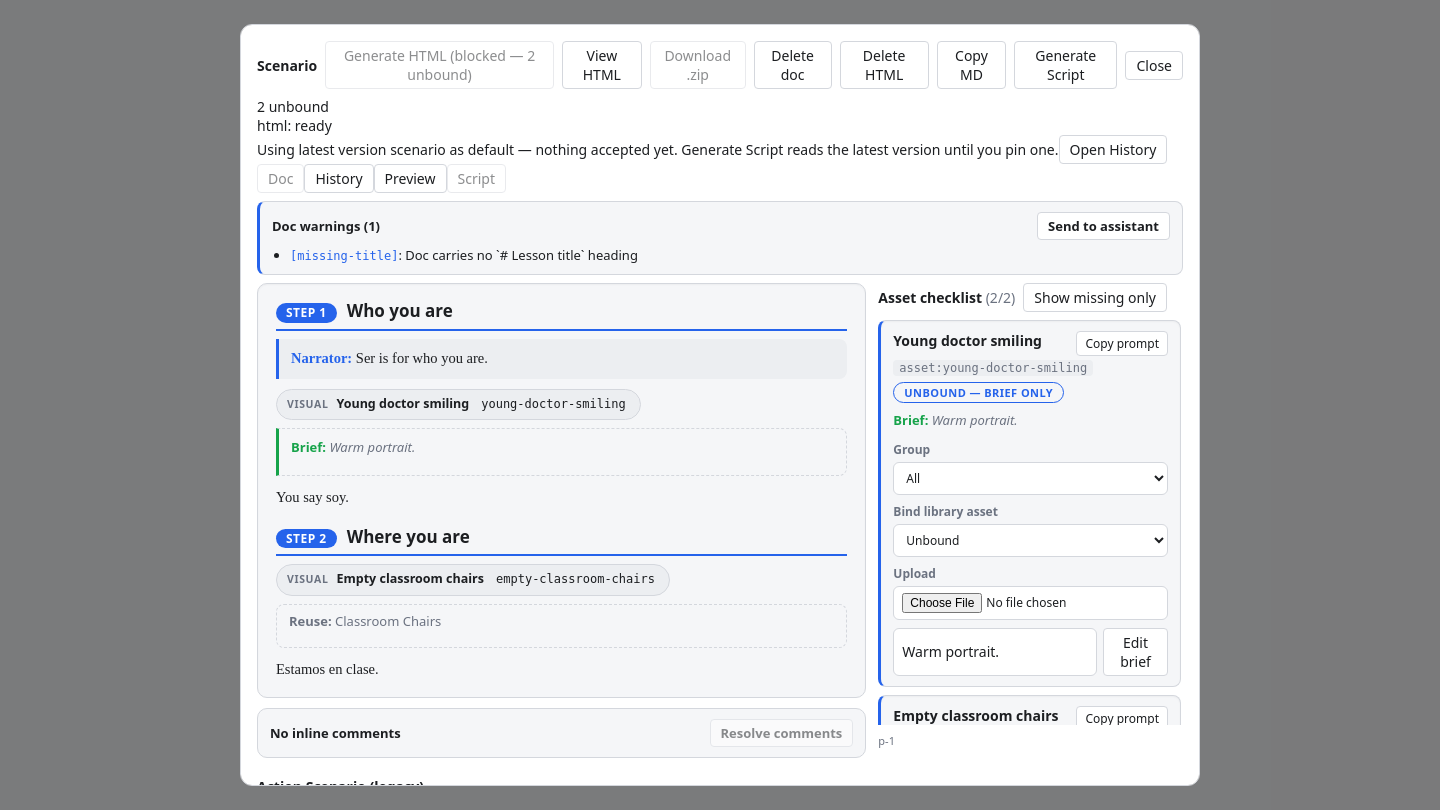
AiScenarioModal doc-first blocking checklist (issue #463) › Delete HTML arms on first click and clears only the stored render
Expected: the element with test id "ai-scenario-modal-doc" is shown, [257,283,866,698]
Expected: the text with test id "ai-scenario-html-state" shows "ready", [295,116,332,135]
Click the button with test id "ai-scenario-delete-html": (884, 65) [840,41,929,89]
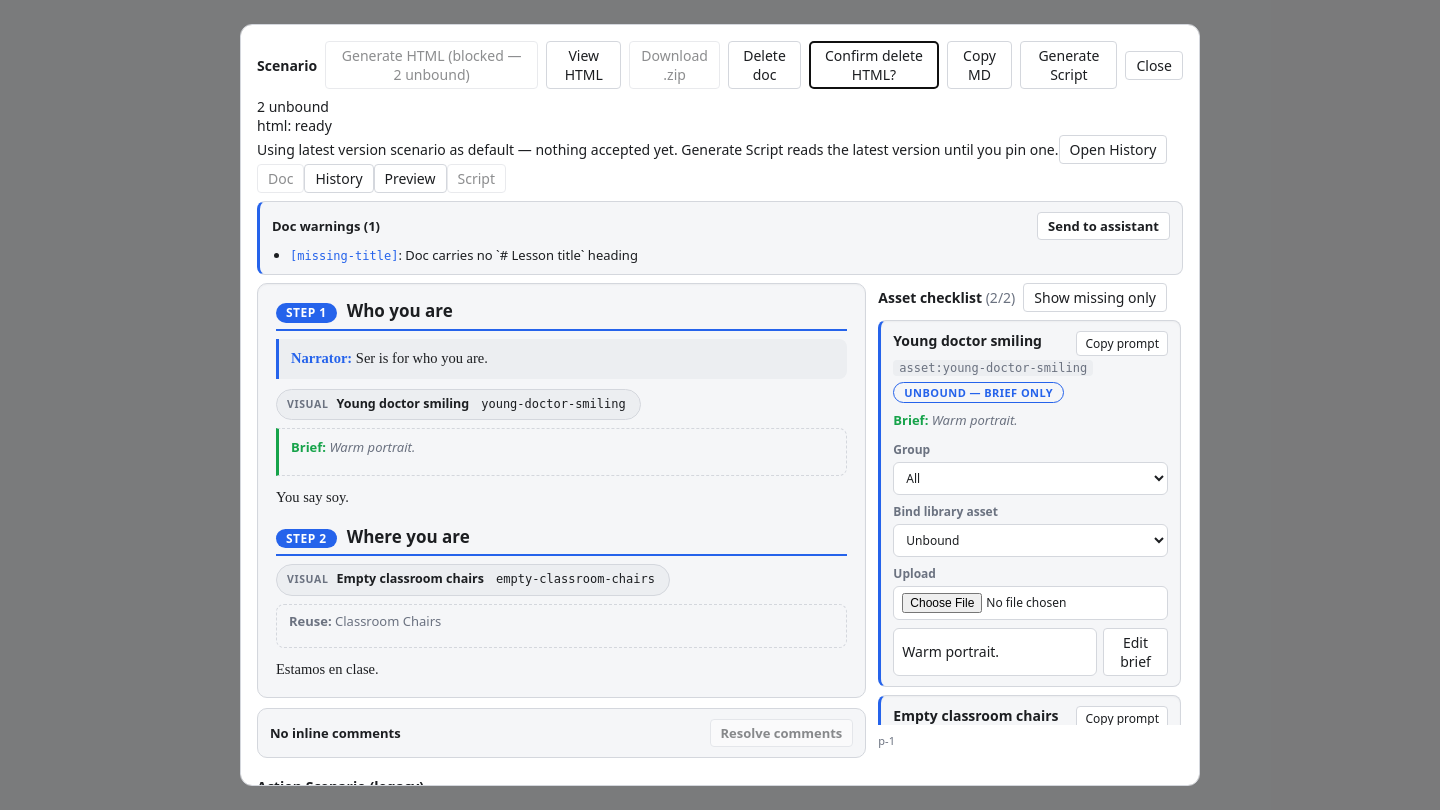
Result: the button with test id "ai-scenario-delete-html" shows "Confirm"
Click the button with test id "ai-scenario-delete-html": (874, 65) [809,41,939,89]
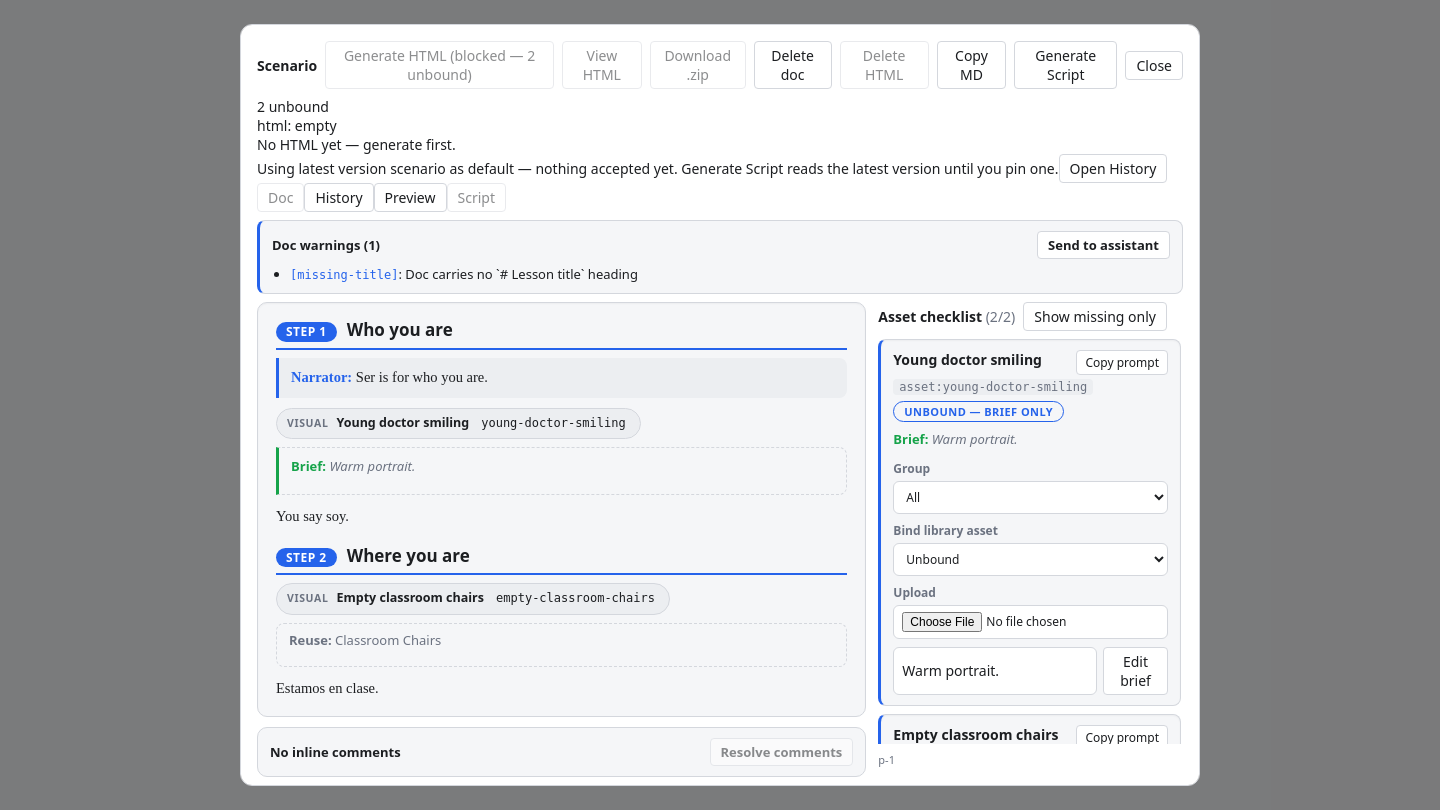
Expected: the element with test id "ai-scenario-modal-doc" is shown, [257,302,866,717]
Result: the text with test id "ai-scenario-html-state" shows "empty" at [295,116,337,135]
Result: the button with test id "ai-scenario-delete-html" is disabled at [840,41,929,89]
